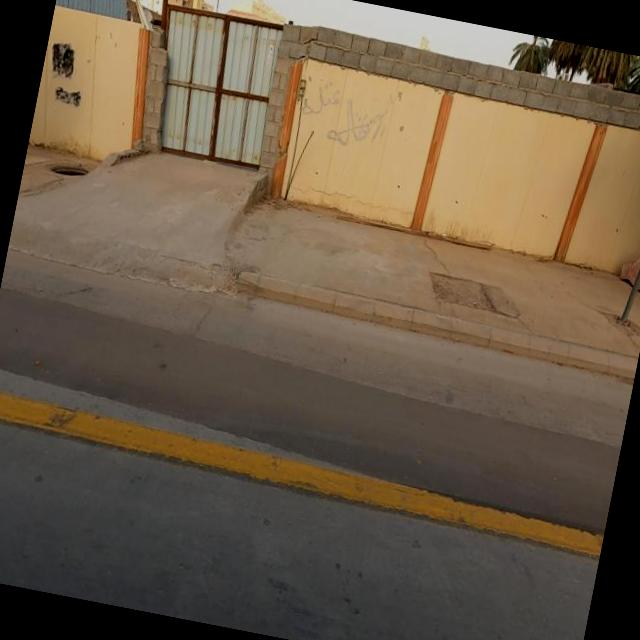debris: (249, 17, 451, 211)
